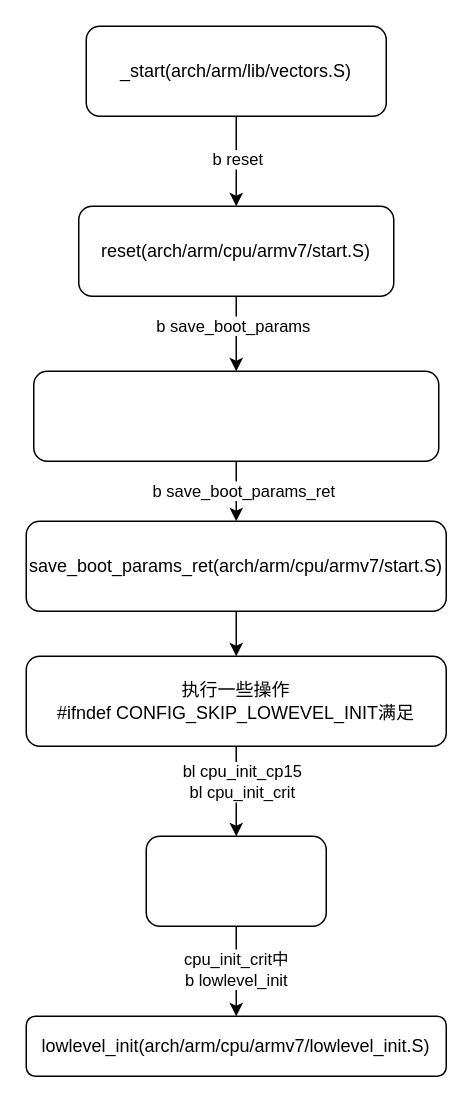
Image size: 473x1103. Some labels were removed from this diagram. Here are the shapes that lost their labels. From the top down, the centre of each, then its label:
the point at 235,415: save_boot_params(arch/arm/cpu/armv7/start.S)
the point at 235,880: cpu_init_cp15(start.S) cpu_init_crit(start.S)
